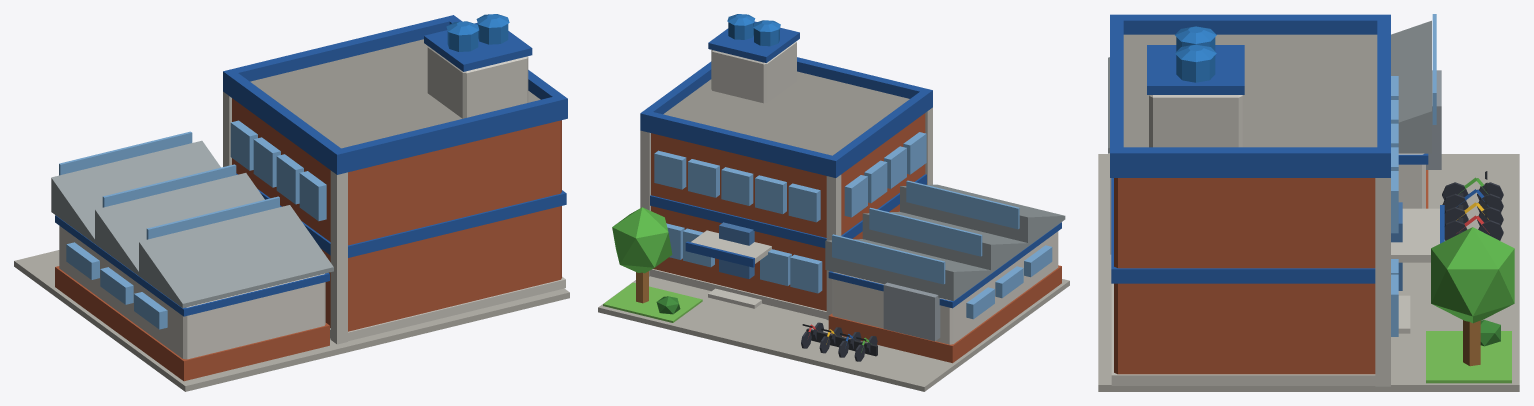
File: escola_tecnica.glb
The picture shows the model from 3 angles, left to right: view 1: azimuth 30°, elevation 25°; view 2: azimuth 150°, elevation 25°; view 3: azimuth 270°, elevation 25°; orthographic projection. The views are drawn at different scales.
Parts seen in each view (by area): view 1: corpo; view 2: corpo; view 3: corpo.
Part boxes in pixels (x1=…): corpo: x1=14, y1=14, x2=569, y2=391; corpo: x1=598, y1=14, x2=1069, y2=391; corpo: x1=1098, y1=14, x2=1519, y2=391.
Bounding box in the file's own units: 1.42 × 0.91 × 1.08.
